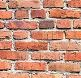brick: (50, 62, 81, 72), (16, 62, 48, 71), (32, 51, 63, 60), (15, 41, 49, 49), (1, 51, 30, 60), (49, 9, 81, 17), (32, 31, 64, 39), (50, 41, 81, 49), (6, 22, 38, 28), (32, 72, 64, 78), (17, 1, 41, 8), (1, 72, 31, 77), (57, 20, 73, 29), (44, 1, 64, 8), (31, 10, 46, 19), (16, 10, 29, 20), (65, 52, 81, 60), (1, 61, 13, 71), (1, 1, 16, 9), (13, 32, 29, 39), (1, 10, 13, 19), (66, 31, 81, 38), (68, 1, 81, 8), (40, 21, 54, 27), (1, 41, 12, 48), (66, 72, 81, 77), (1, 32, 11, 39), (74, 21, 81, 27)
